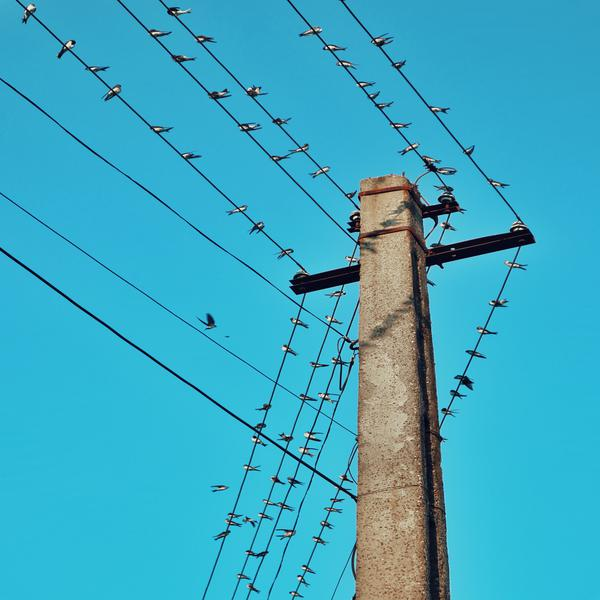utility_pole: (272, 159, 544, 385)
